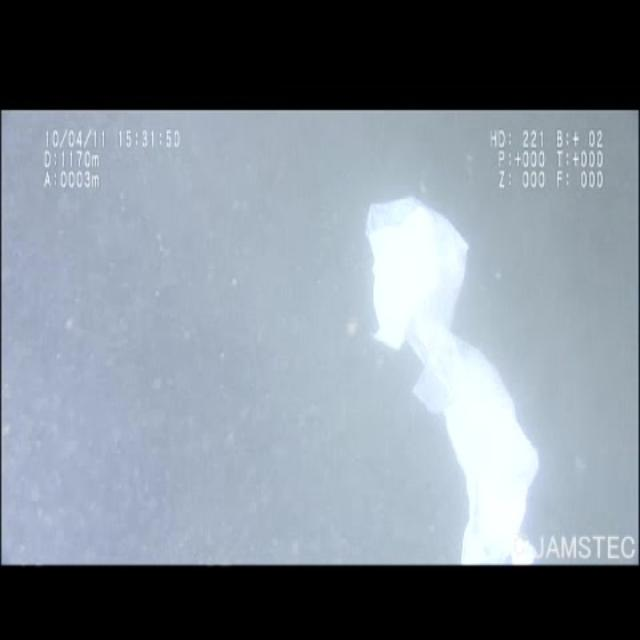Plastic: (345, 197, 555, 568)
